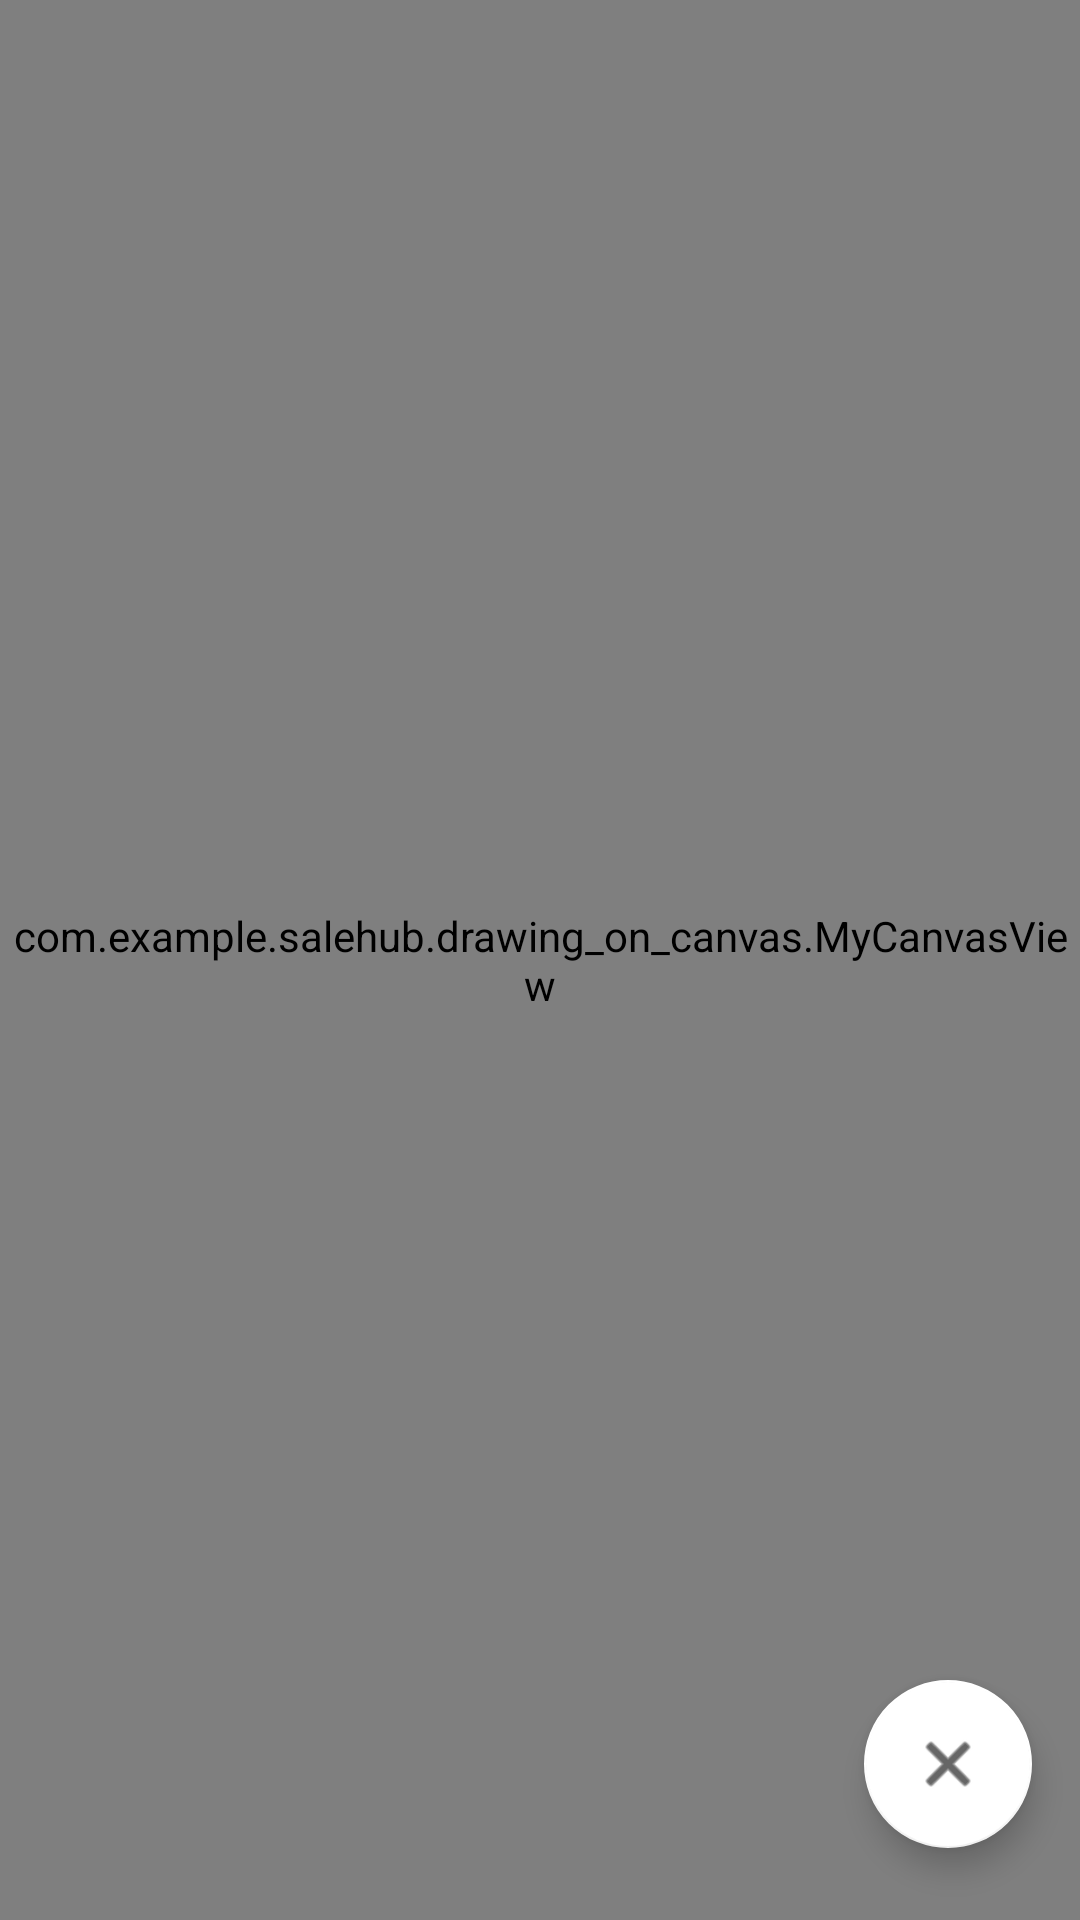

Named icons in this screenshot (1080 x 1920) and their bounding boxes, region(x1, y1, x2, y2):
close clear cancel: region(864, 1680, 1032, 1848)
